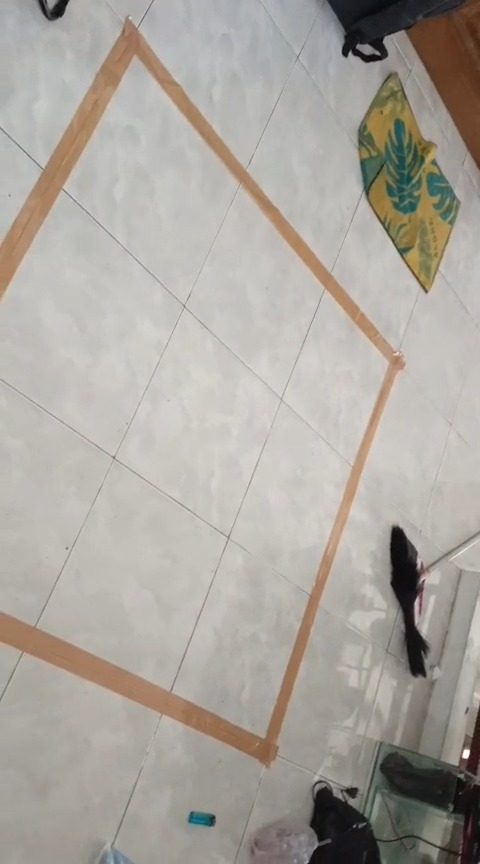floor marking: (0, 18, 404, 765)
